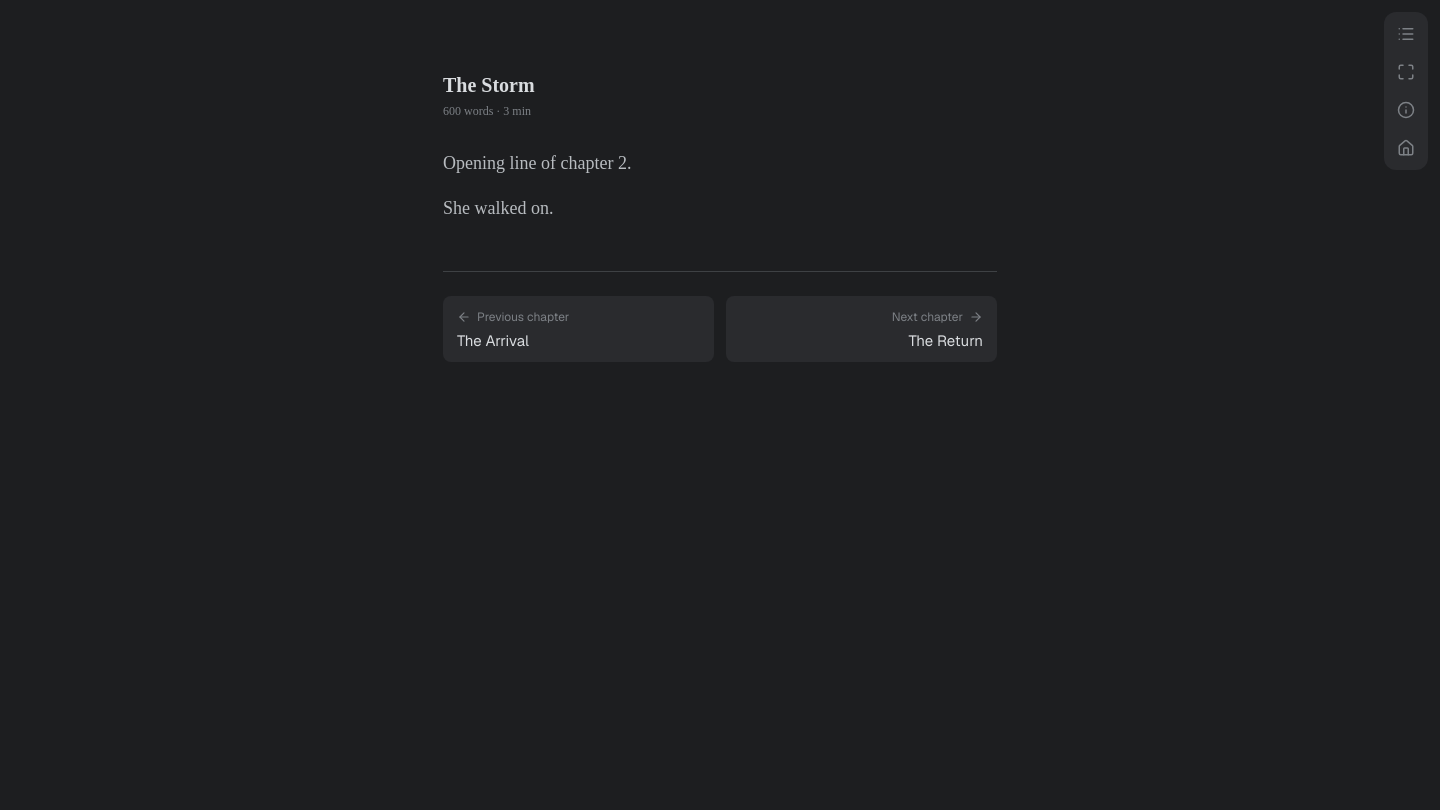
Scenario: reader: moving between chapters › lists every chapter in a side panel, marking the current one and the ones you have read
Expected: the heading "The Storm" is shown, [443,74,535,96]
Click the button named "Chapters". click: {"x": 1406, "y": 34}
box: [1388,16,1424,52]
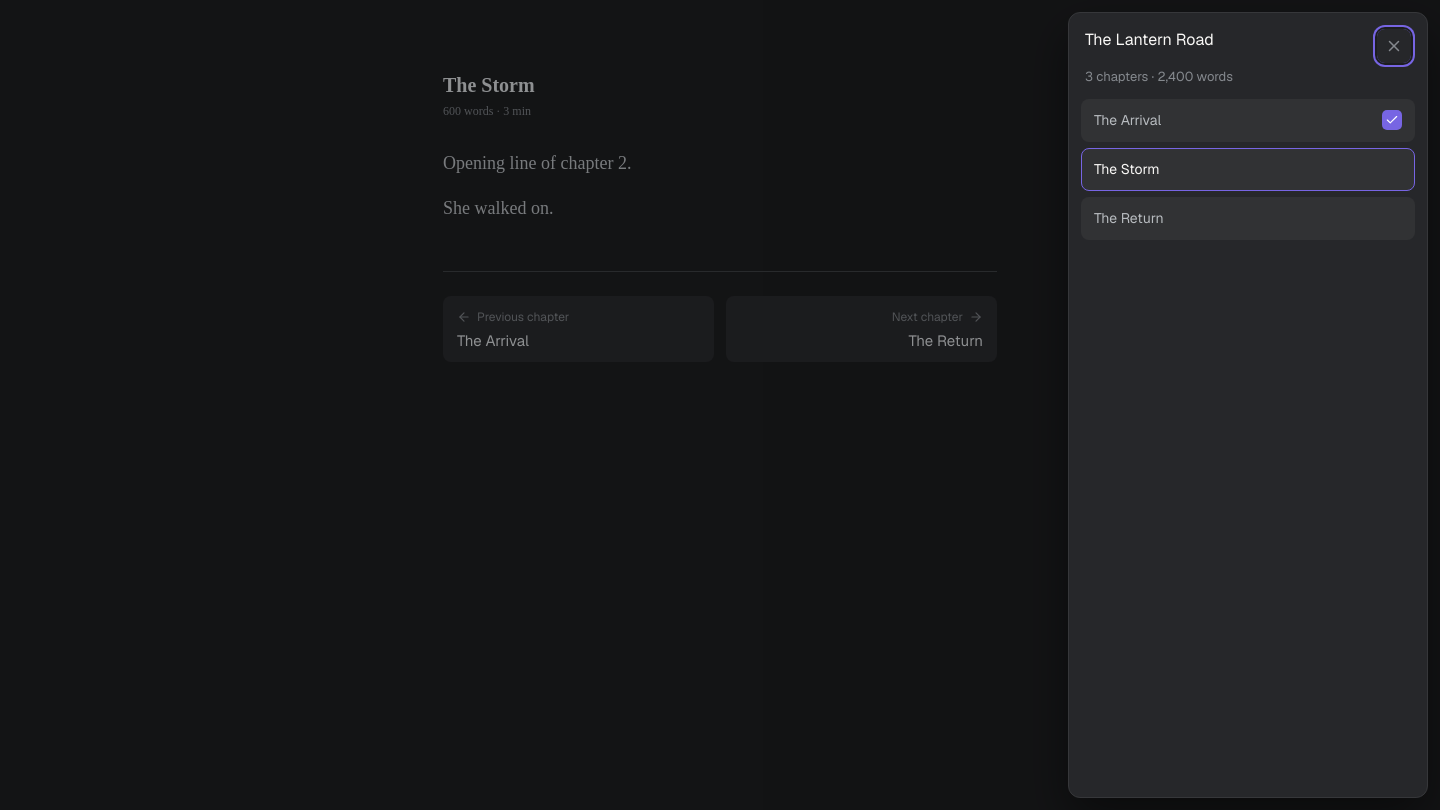
Result: the picture named "Read" is shown at [1382,110,1402,130]
Click the link "The Return". click: {"x": 1129, "y": 218}
box: [1081,196,1415,240]
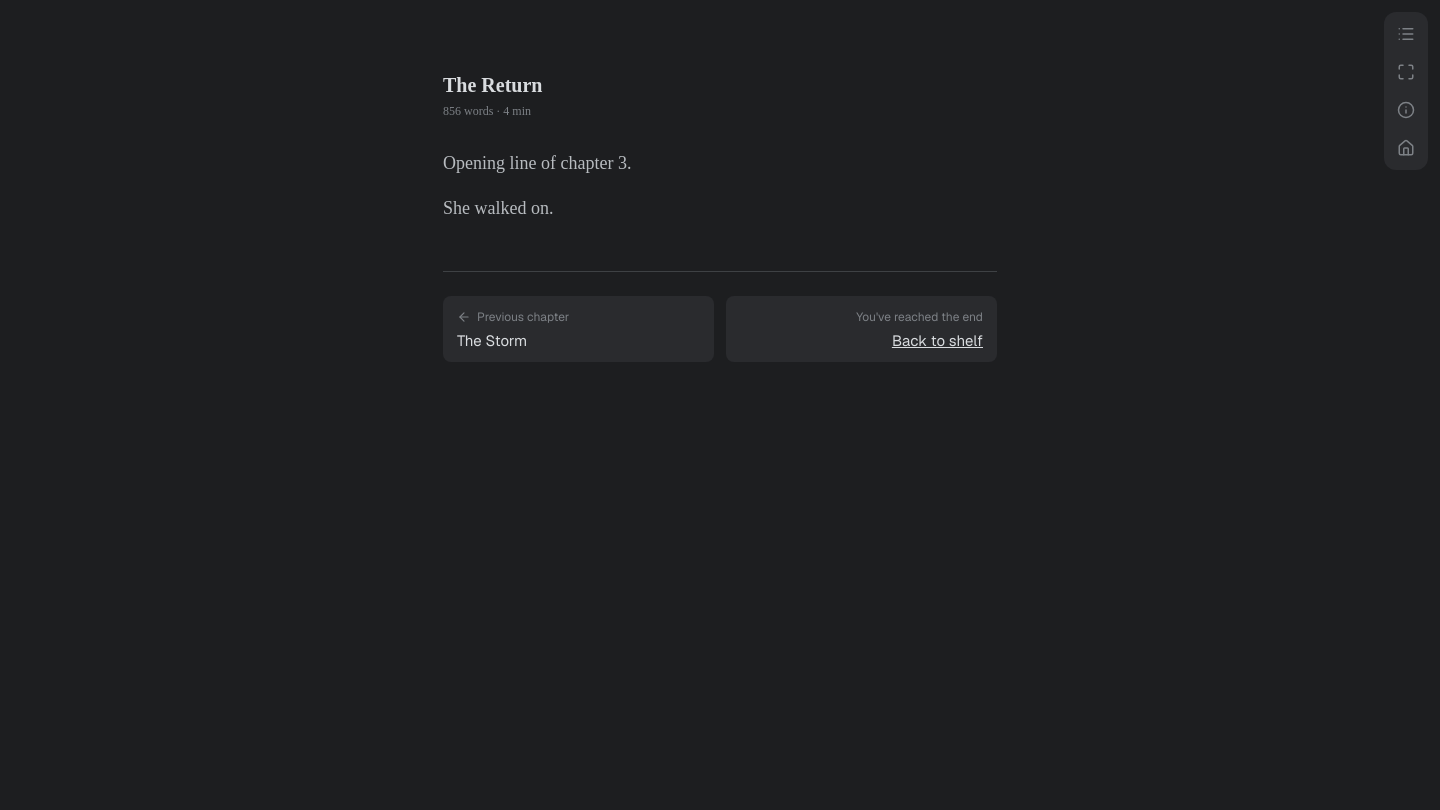
Result: the dialog is gone
